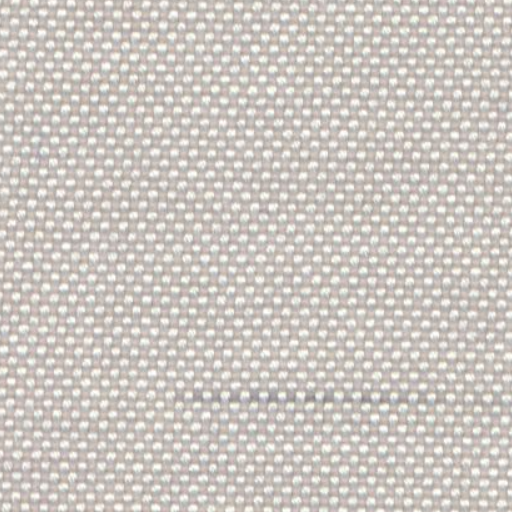WuZi: (173, 382, 424, 410)
